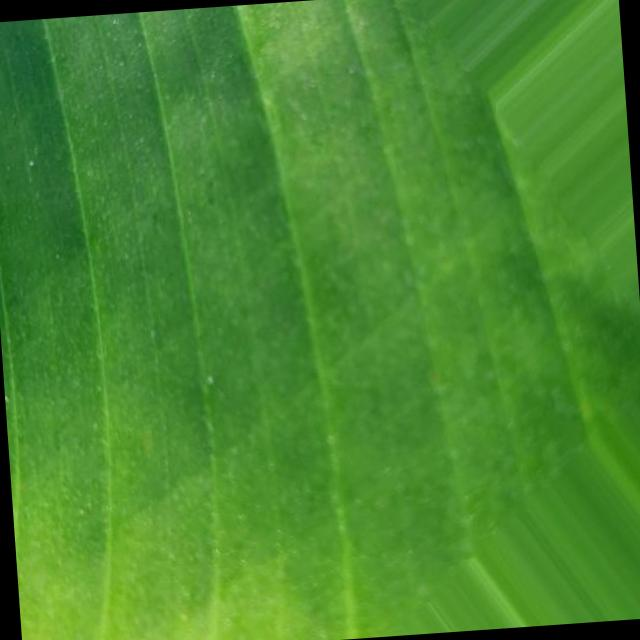Banana_Healthy: (60, 80, 473, 460)
